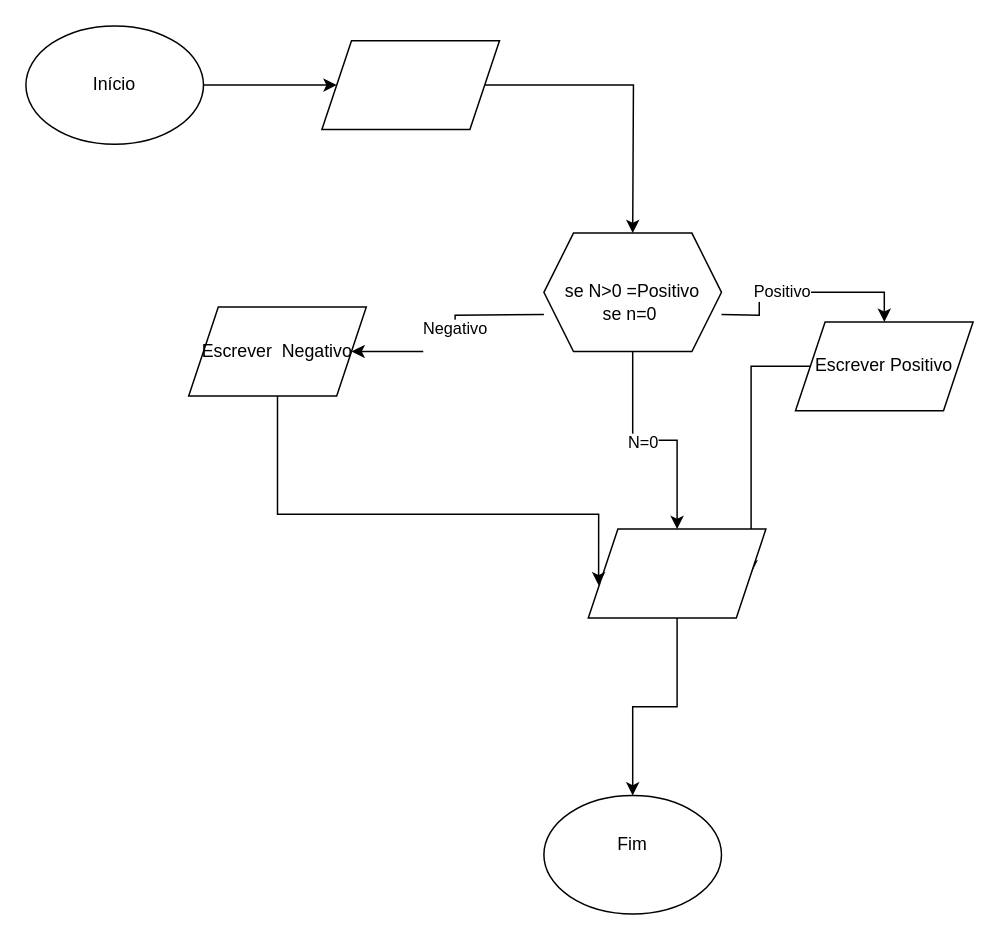
This 999x940 diagram has some shape labels left out. Each missing label, with the centre of its shape:
escrever resultado: point (676, 573)
Ler N: point (410, 84)
